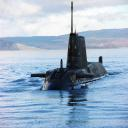submarine: (31, 1, 112, 93)
